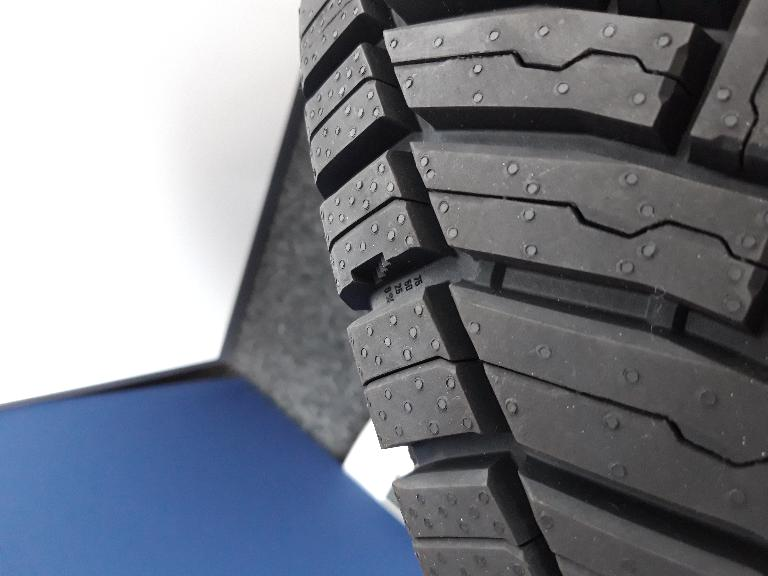temoin:100: (350, 251, 405, 291)
